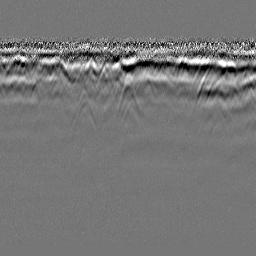cavity: (115, 72, 142, 118)
